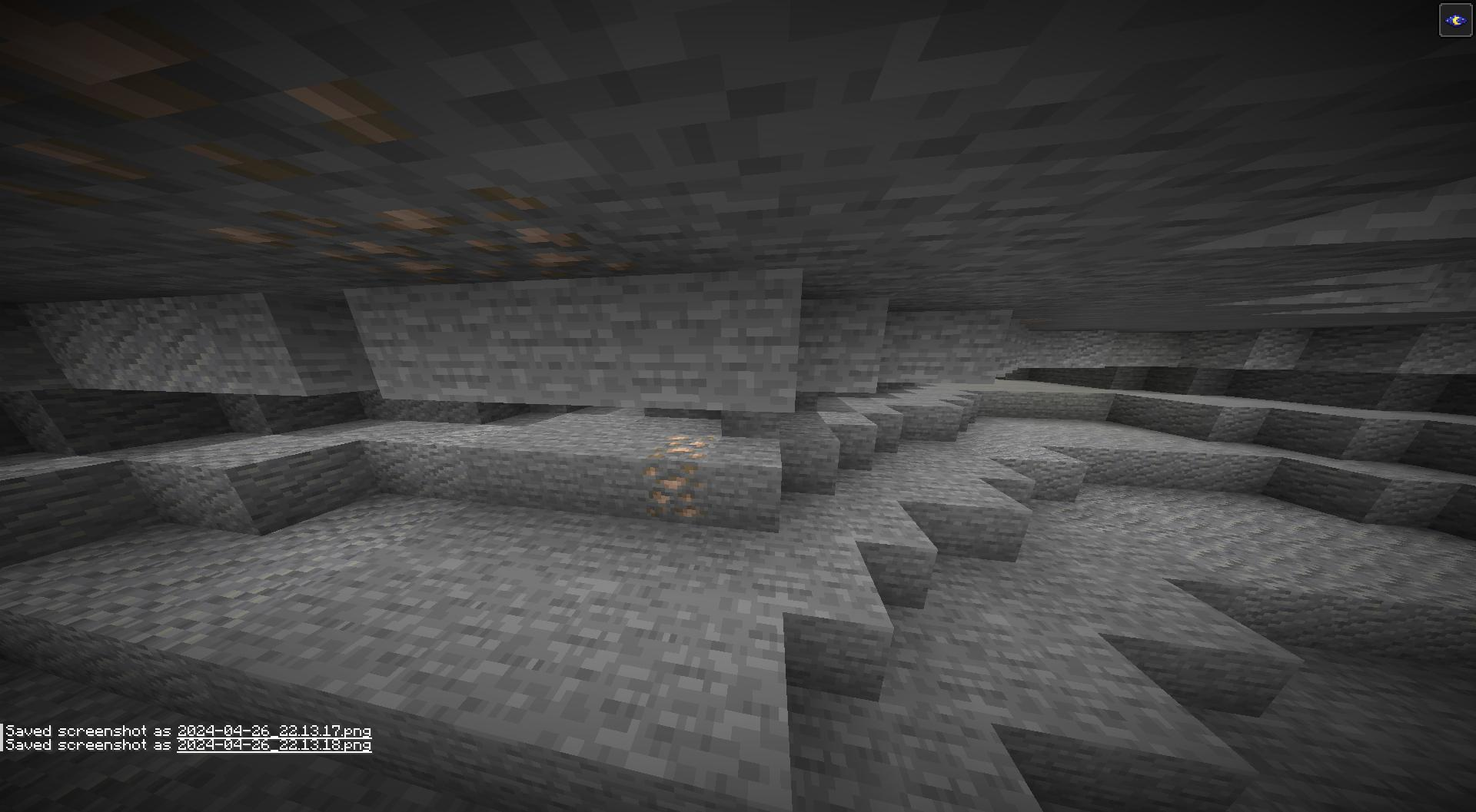iron ore: (14, 0, 607, 275), (642, 461, 700, 517), (651, 435, 714, 460)
